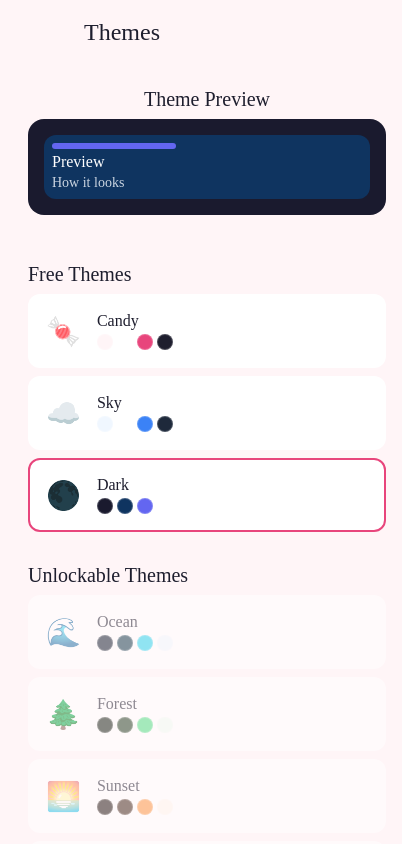
Test: ThemePickerScreen › tapping locked theme opens overlay
Step 1. Click the element with test id "locked-theme" → (207, 632), box [28,595,386,669]
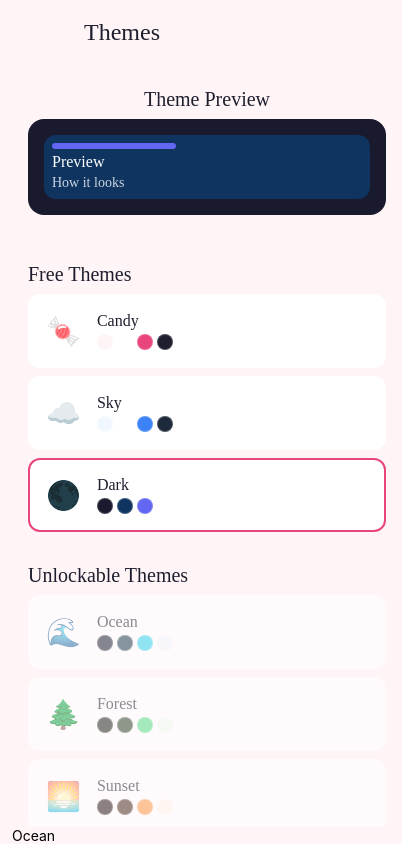
expect the element with test id "cosmetic-detail-overlay" is shown: met, box [12,827,55,843]
